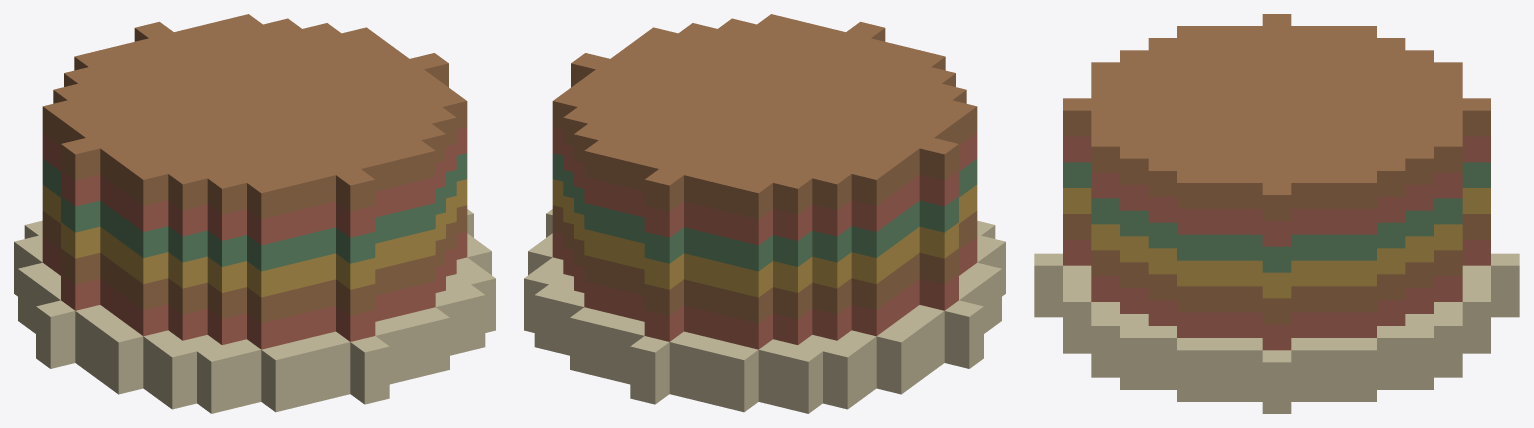
The model's file is food-04.glb.
3 renders of one model, left to right at view 1: azimuth 30°, elevation 25°; view 2: azimuth 150°, elevation 25°; view 3: azimuth 270°, elevation 25°, orthographic.
Parts seen in each view (by area): view 1: Burger stack; view 2: Burger stack; view 3: Burger stack.
Boxes of the visible parts, x1,y1,x2,y2 form: Burger stack: [14, 14, 495, 413]; Burger stack: [524, 14, 1005, 413]; Burger stack: [1034, 14, 1519, 413].
Bounding box in the file's own units: 1.36 × 0.64 × 1.36.
